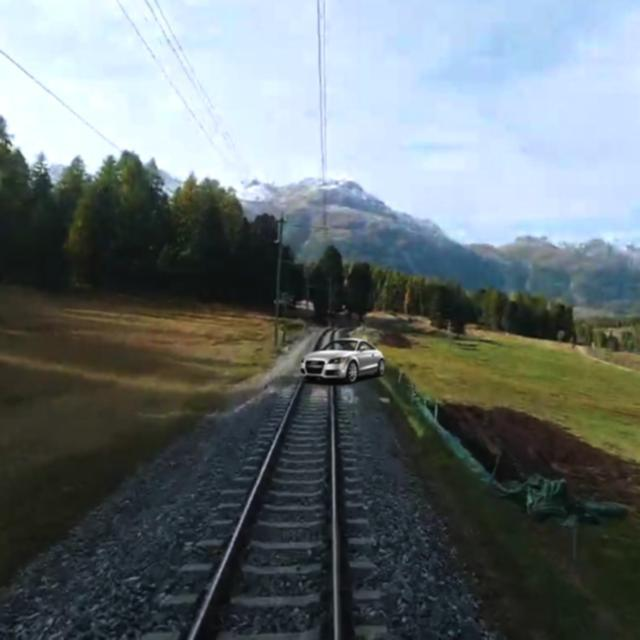danger: (295, 333, 391, 384)
rail: (188, 381, 304, 640), (329, 386, 343, 640)
